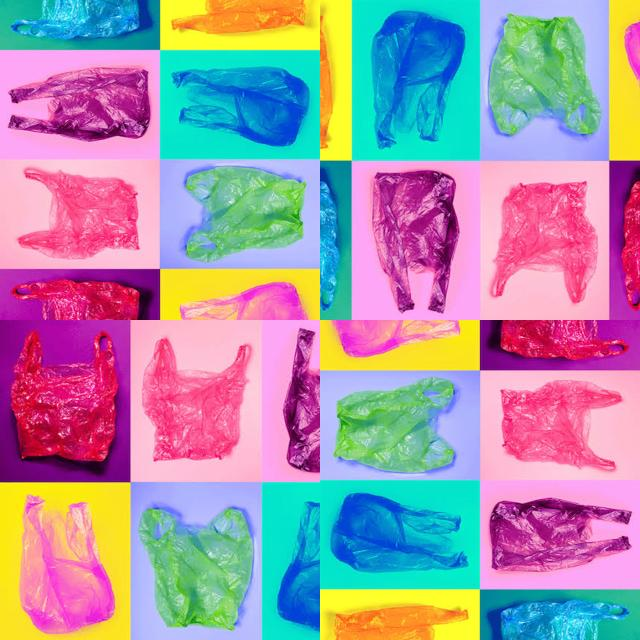Single-layer Plastic: (139, 508, 254, 629), (11, 331, 118, 461), (489, 14, 601, 135), (142, 338, 251, 461), (19, 495, 115, 634), (371, 11, 465, 149), (491, 182, 598, 302), (372, 170, 459, 312), (186, 166, 306, 262), (334, 378, 454, 472), (172, 66, 309, 146), (332, 492, 468, 572), (19, 168, 139, 258), (501, 380, 621, 469), (9, 68, 150, 141), (490, 498, 631, 571), (278, 501, 320, 629), (11, 279, 139, 320), (500, 600, 629, 640), (500, 320, 629, 360), (284, 329, 320, 472), (11, 0, 140, 39), (180, 282, 308, 320), (332, 320, 460, 357), (335, 605, 469, 640), (171, 0, 305, 34)
